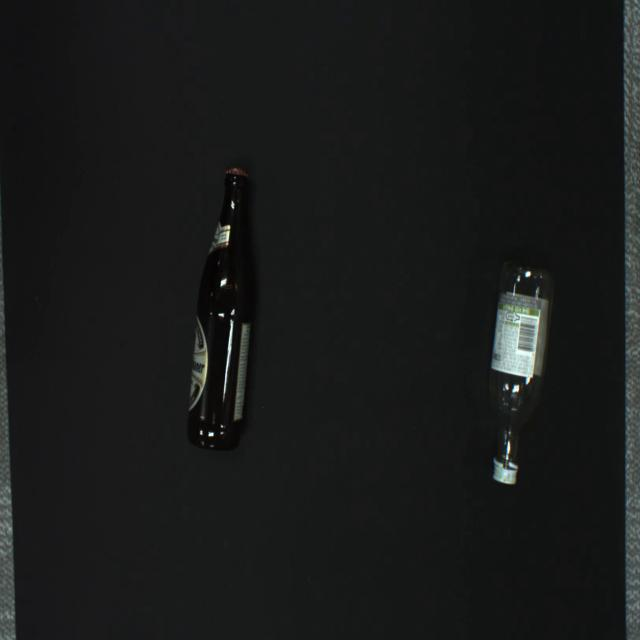beer-bottle: (188, 168, 254, 450)
soju-bottle: (489, 263, 554, 485)
